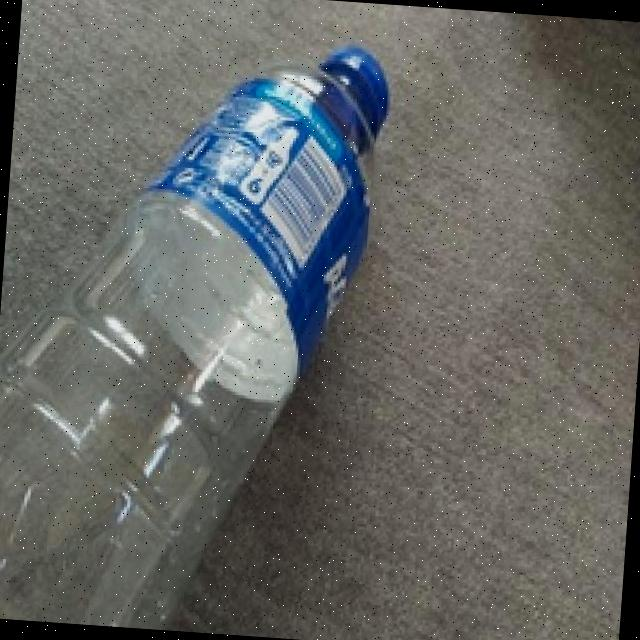bottle: (0, 20, 429, 639)
cap: (318, 36, 398, 115)
label: (142, 63, 386, 400)
